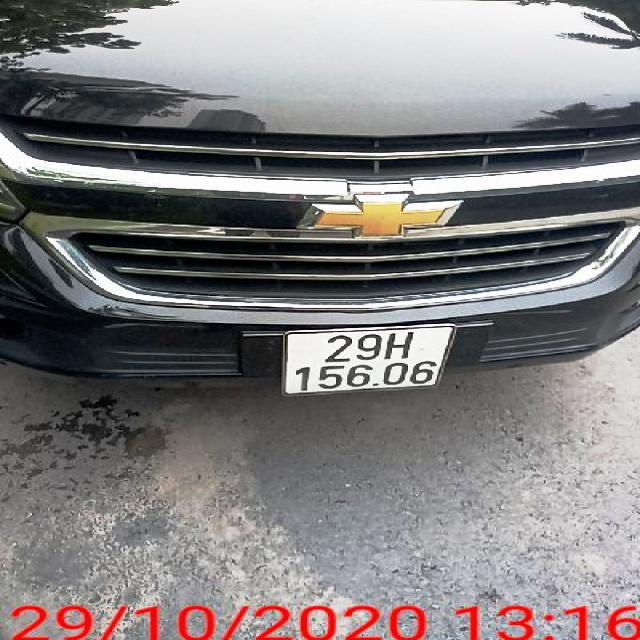license_plate: (284, 330, 456, 395)
